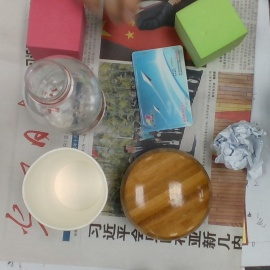bottle: (24, 55, 107, 136)
card: (131, 45, 196, 131)
chess: (119, 147, 217, 239)
cup: (21, 145, 108, 231)
